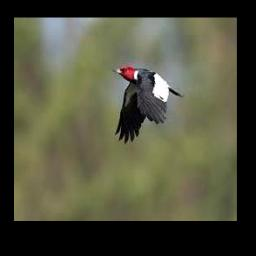Woodpecker: (112, 65, 185, 143)
